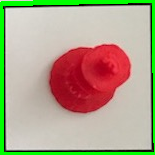Red Queen: (47, 37, 133, 119)
